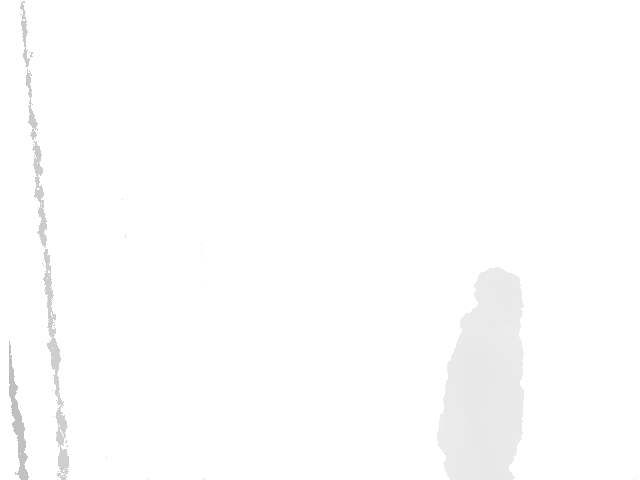head: (474, 267, 524, 331)
person: (438, 267, 527, 480)
